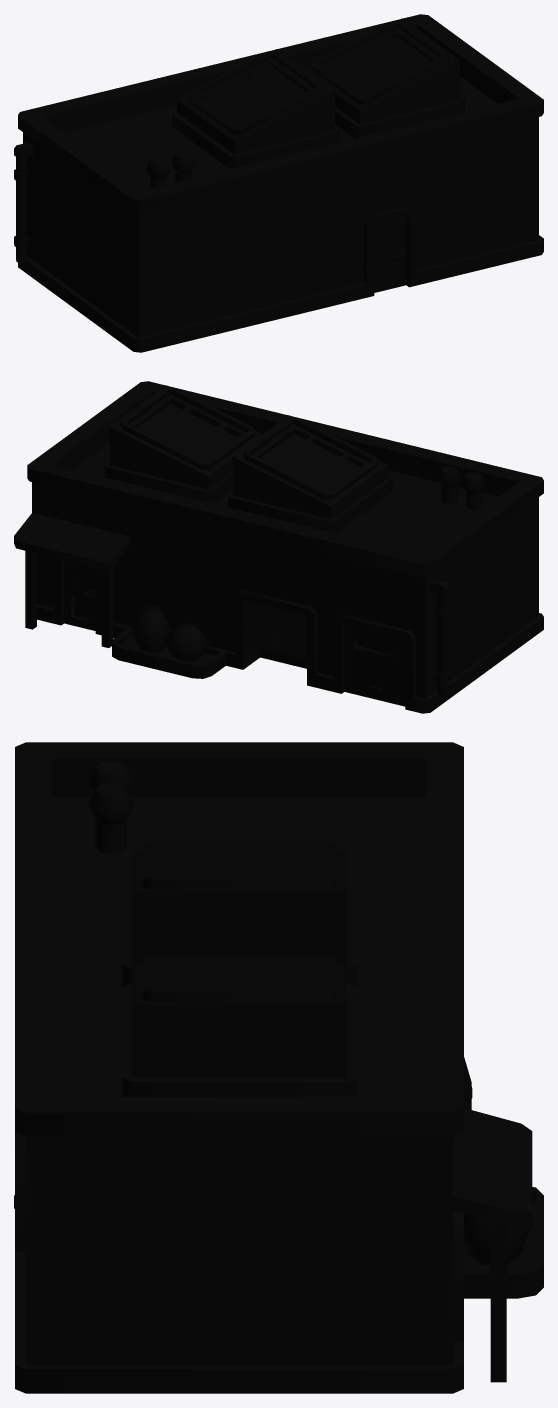
Rendered from building-p.glb.
3 renders of one model, top to bottom at view 1: azimuth 30°, elevation 25°; view 2: azimuth 150°, elevation 25°; view 3: azimuth 270°, elevation 25°, orthographic. The views are drawn at different scales.
Parts seen in each view (by area): view 1: building-p; view 2: building-p; view 3: building-p.
Part boxes in pixels (x1,y1,x2,y2): building-p: (14, 14, 543, 352); building-p: (14, 381, 543, 713); building-p: (14, 742, 543, 1393).
Size of the model in its own units: 1.68 by 0.7144 by 0.992.
Materials: 1 (1 with a texture image).
